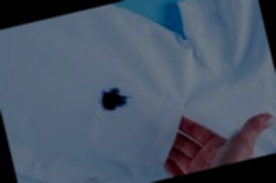ink: (99, 85, 128, 112)
